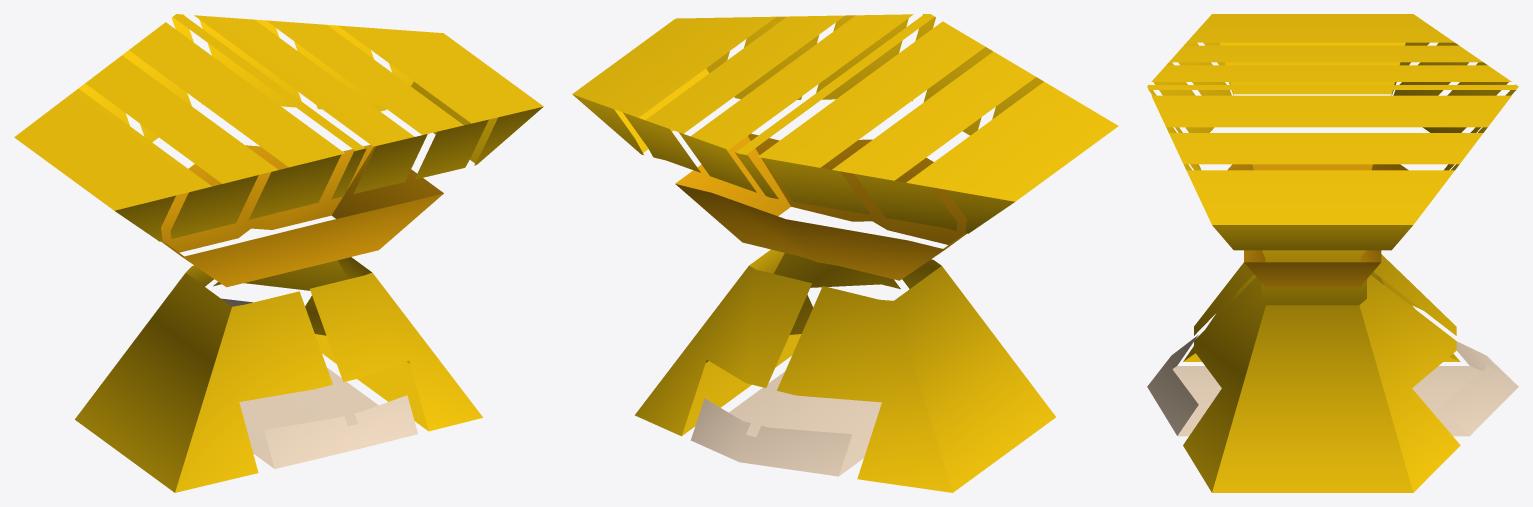
File: C_GH_Body_F4.FBX
The picture shows the model from 3 angles, left to right: view 1: azimuth 30°, elevation 25°; view 2: azimuth 150°, elevation 25°; view 3: azimuth 270°, elevation 25°; orthographic projection. The views are drawn at different scales.
Visible parts, largest first — view 1: Body; view 2: Body; view 3: Body.
Part boxes in pixels (x1,y1,x2,y2): Body: (14,14,543,492); Body: (572,14,1118,492); Body: (1147,14,1518,492).
Bounding box in the file's own units: 18.03 × 13.21 × 13.46.
